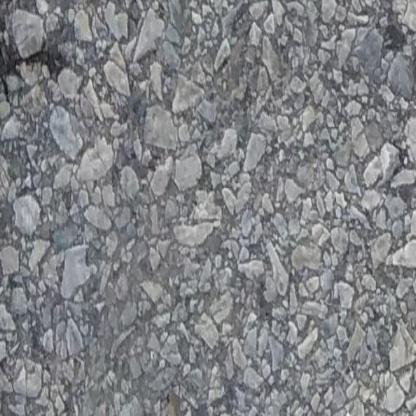Cracks: (0, 0, 65, 92)
